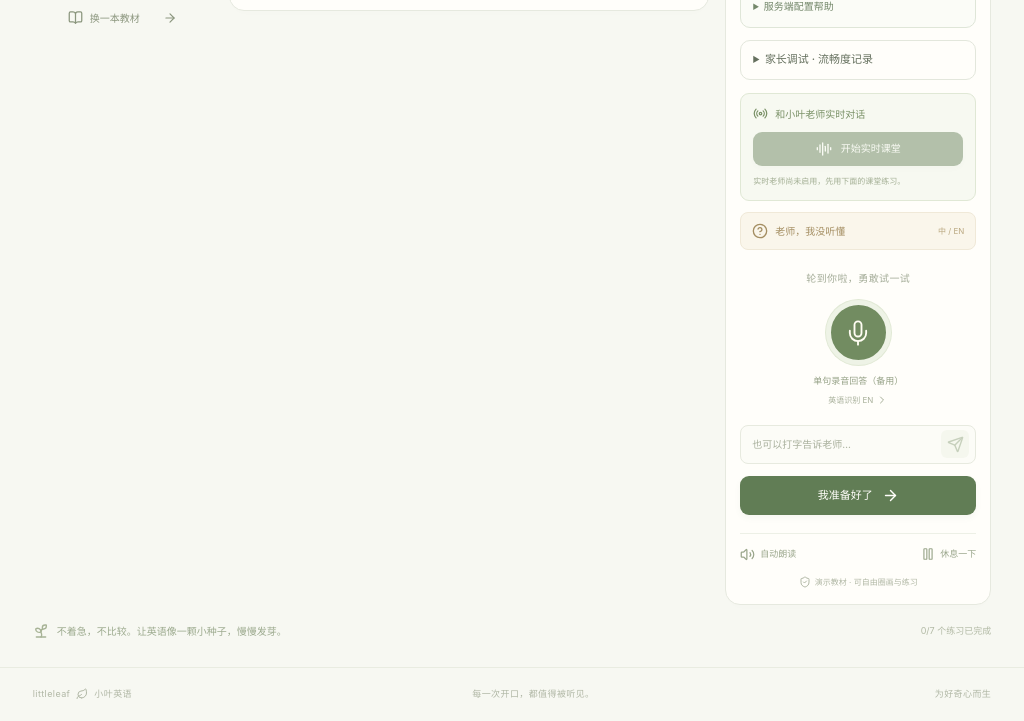
Test: anonymous public visitors can practice and see sign-in before any AI microphone request
(page scrolled)
Click the button "我准备好了": click(858, 495) [740, 476, 976, 514]
(page scrolled)
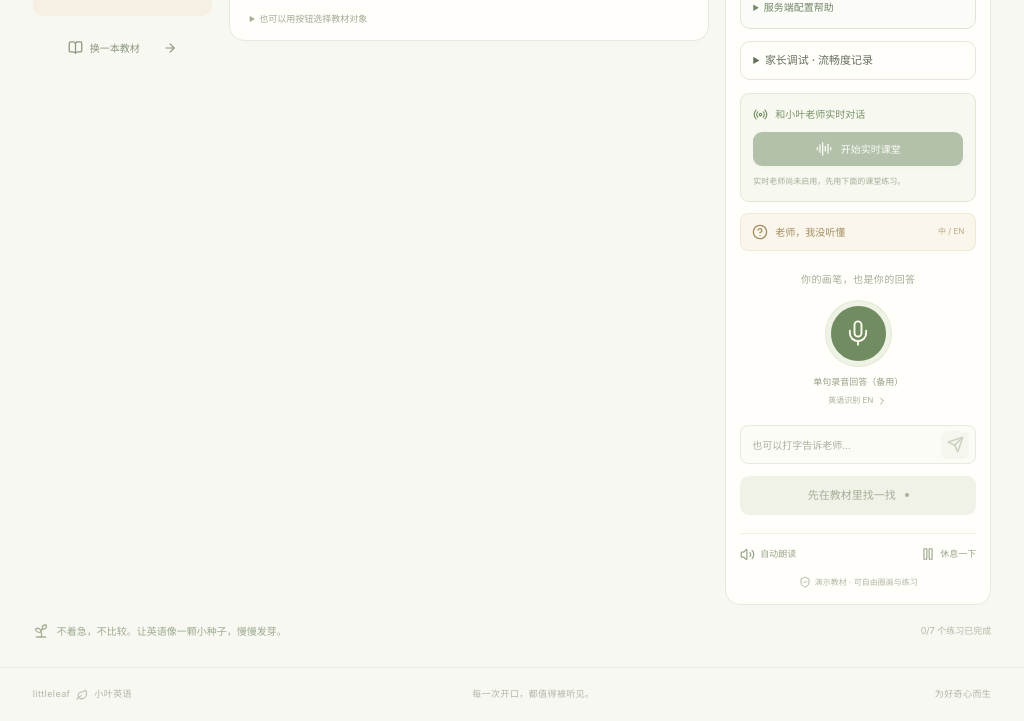
Click the heading "也可以用按钮选择教材对象": click(313, 18) [259, 13, 367, 24]
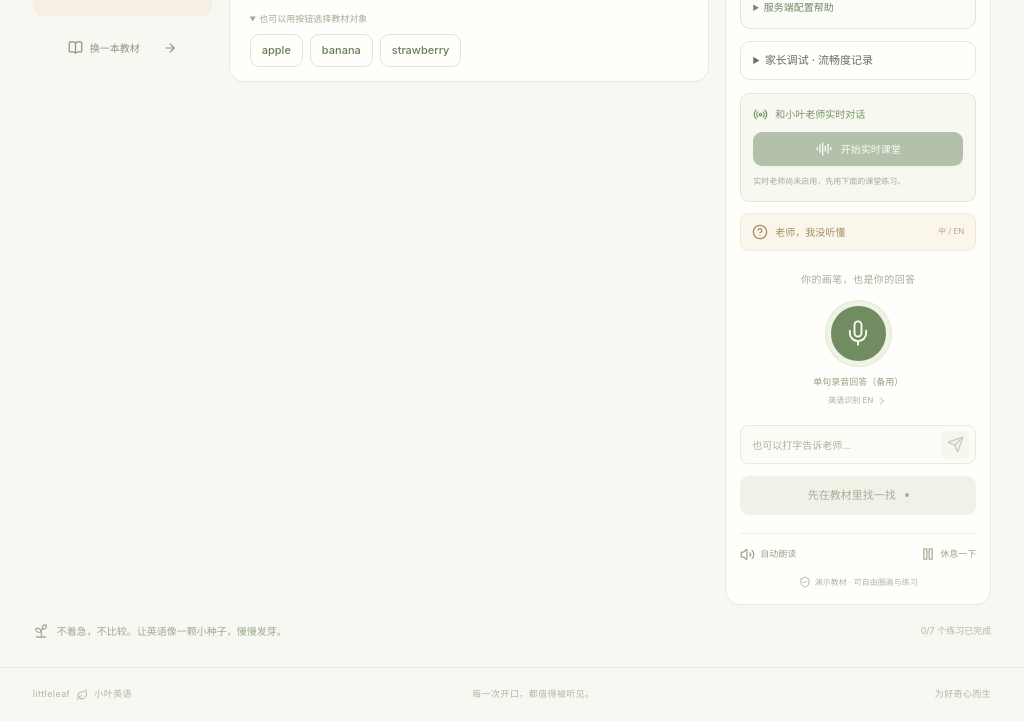
Click the button "apple": click(276, 51) [250, 34, 303, 67]
(page scrolled)
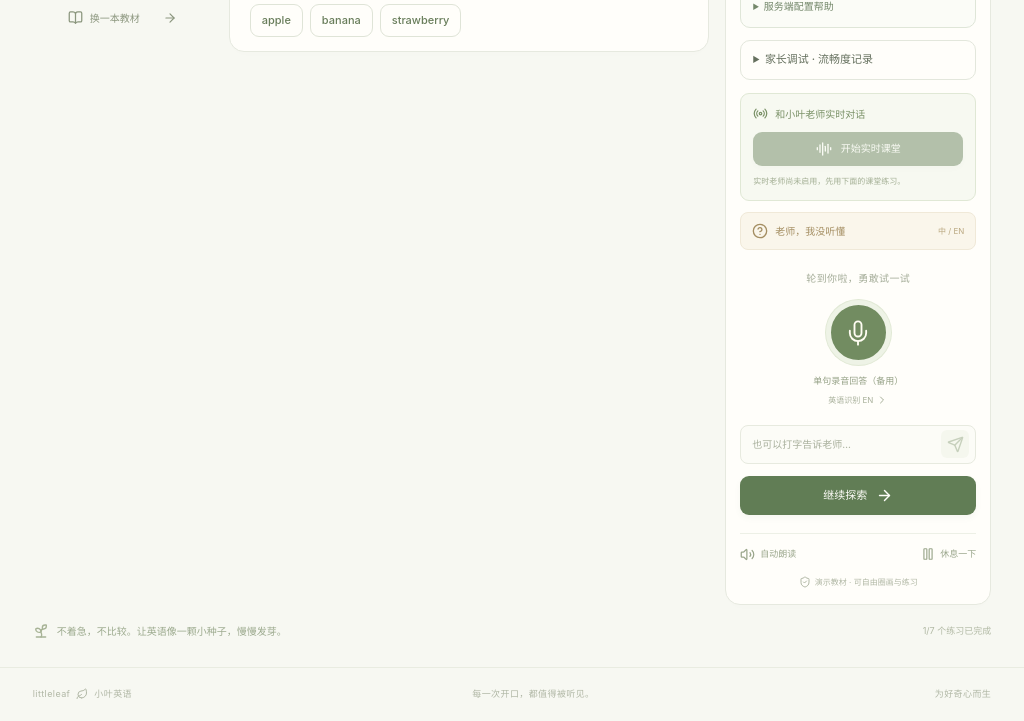
Check: the button "继续探索" is shown, box [740, 476, 976, 514]
